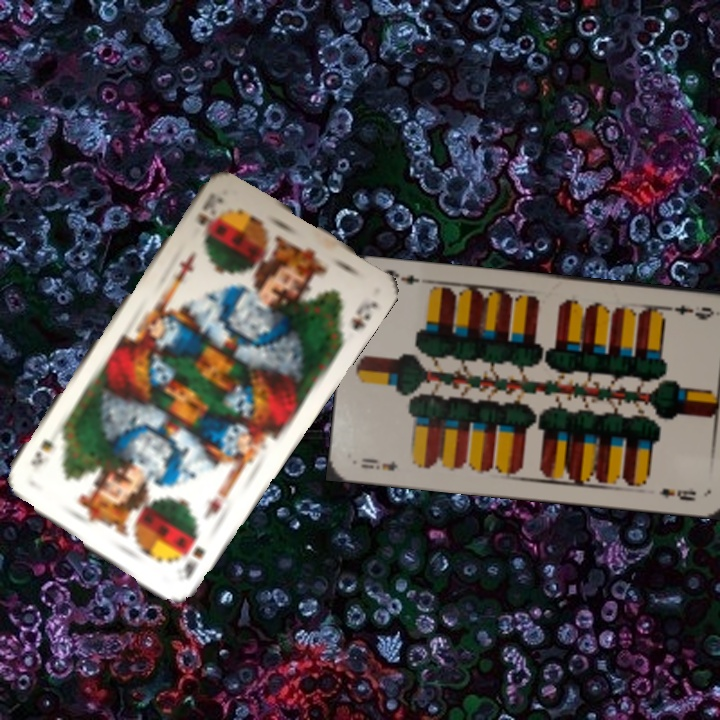E9: (659, 301, 717, 323), (357, 454, 400, 474)
SK: (193, 192, 227, 239), (179, 529, 208, 582)
